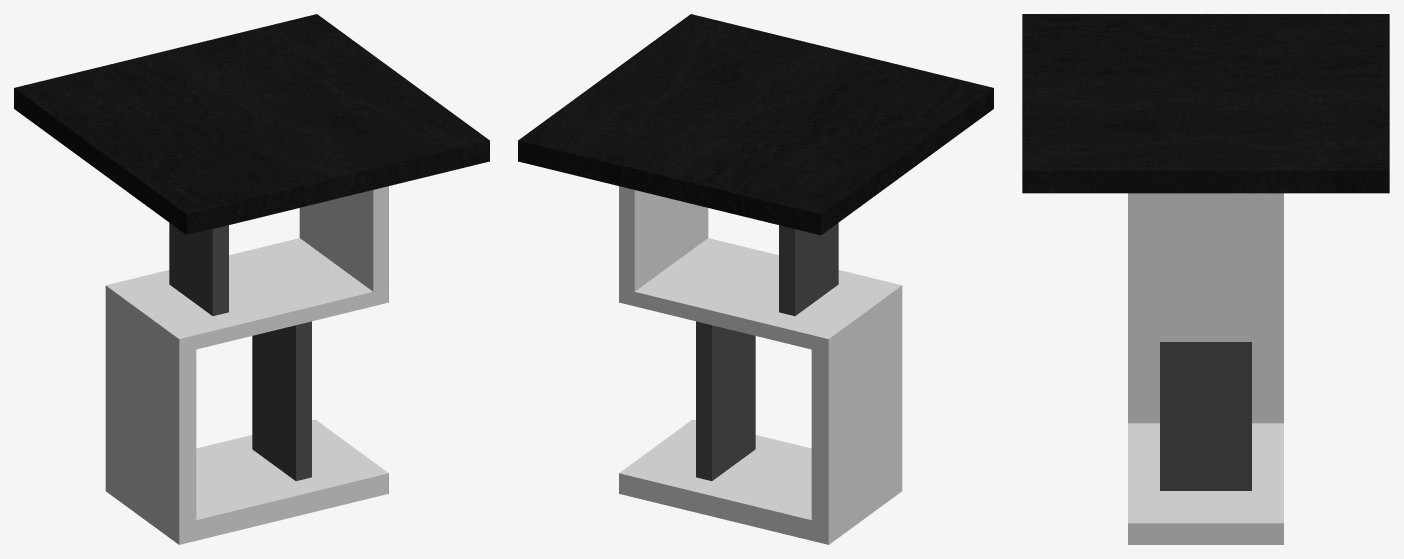
File: marble_table_2.glb
The picture shows the model from 3 angles, left to right: view 1: azimuth 30°, elevation 25°; view 2: azimuth 150°, elevation 25°; view 3: azimuth 270°, elevation 25°; orthographic projection. The views are drawn at different scales.
Parts seen in each view (by area): view 1: Marble Table 2; view 2: Marble Table 2; view 3: Marble Table 2.
Part boxes in pixels (<box>): Marble Table 2: <box>14,14,489,544</box>; Marble Table 2: <box>518,14,993,544</box>; Marble Table 2: <box>1022,14,1389,544</box>.
Bounding box in the file's own units: 0.7647 × 0.9097 × 0.7555.
1 material, 1 textured.
